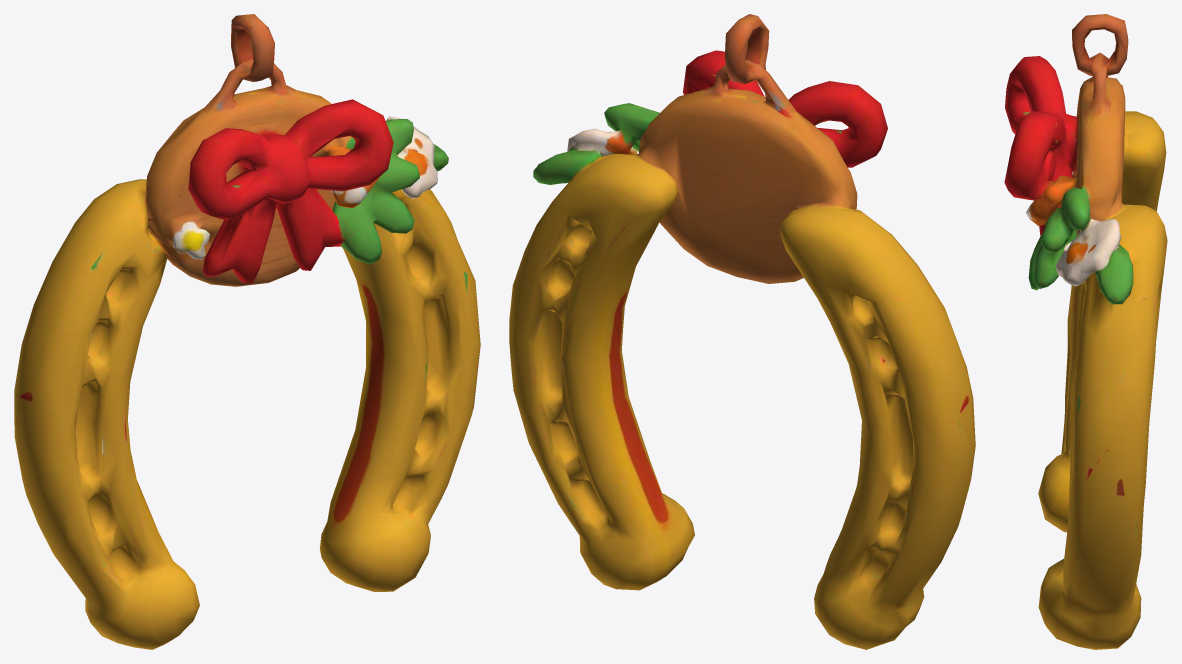
3 renders of one model, left to right at view 1: azimuth 30°, elevation 25°; view 2: azimuth 150°, elevation 25°; view 3: azimuth 270°, elevation 25°, orthographic. The views are drawn at different scales.
Visible parts, largest first — view 1: horseshoe; view 2: horseshoe; view 3: horseshoe.
Boxes of the visible parts, left/top/right/bottom form: horseshoe: left=14, top=14, right=480, bottom=649; horseshoe: left=509, top=14, right=975, bottom=649; horseshoe: left=1004, top=14, right=1167, bottom=649.
Bounding box in the file's own units: 0.7098 × 0.9 × 0.2317.
1 material, 1 textured.
